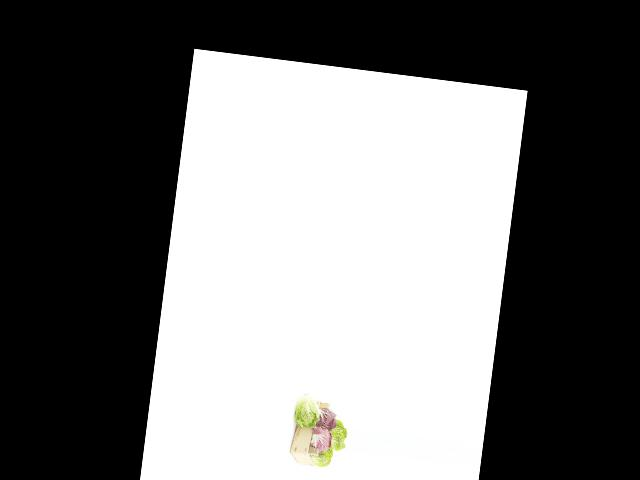lettuce: (324, 418, 349, 451)
